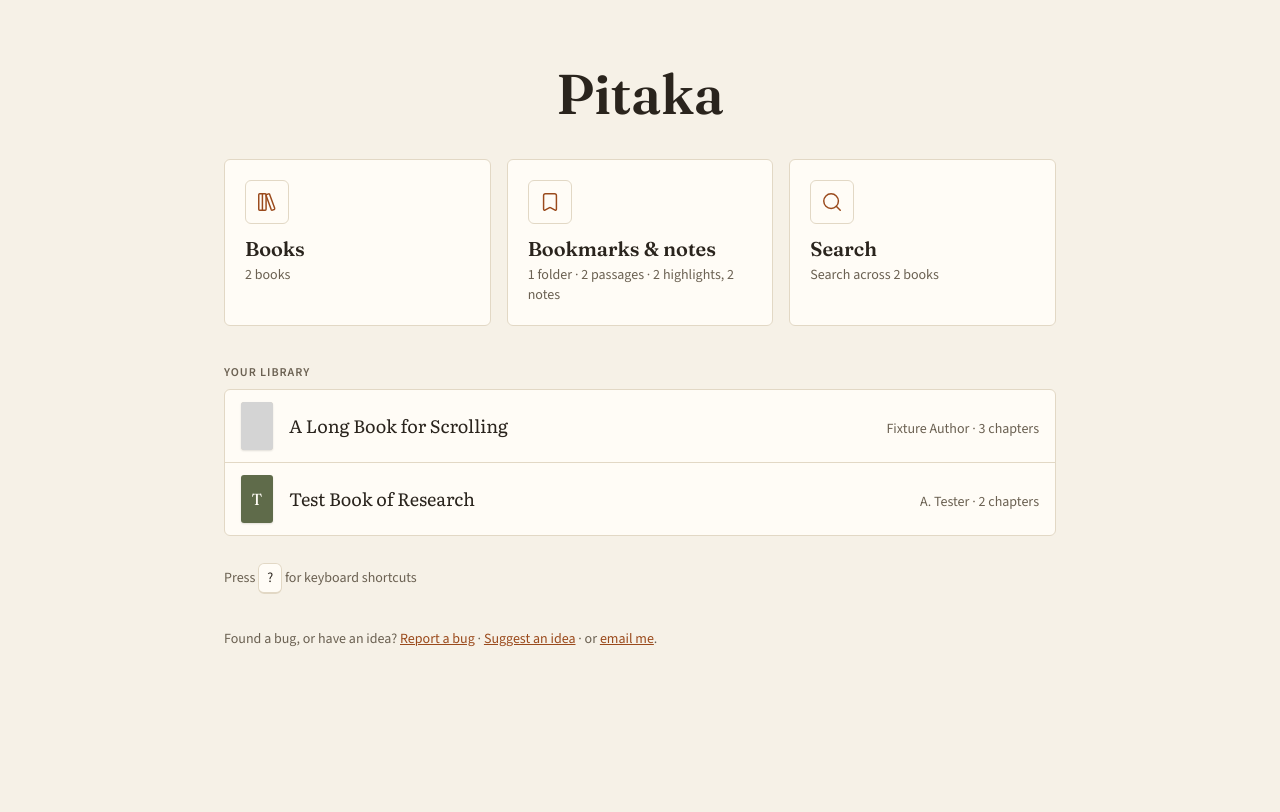
Test case: backing up › shows why a backup failed
Click the button "Books 2 books".
click(267, 202)  # box x1=224 y1=159 x2=491 y2=326
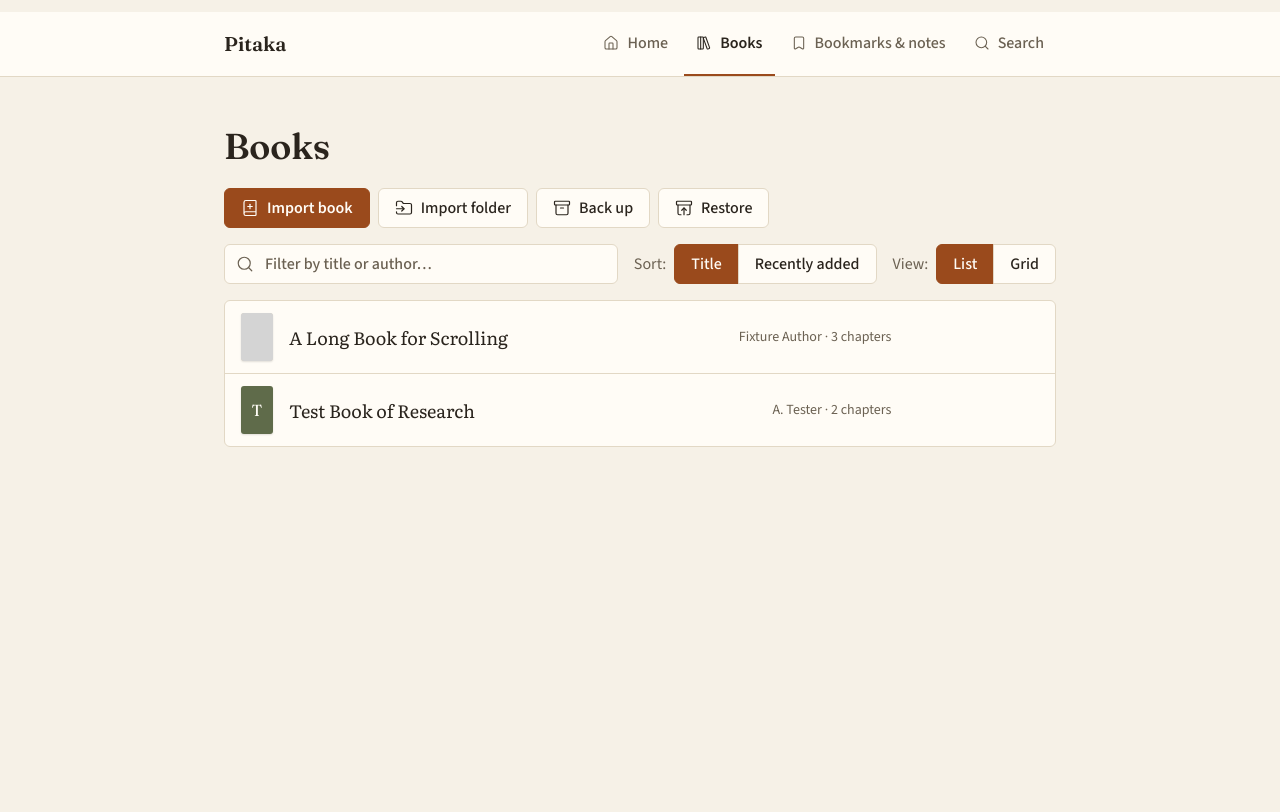
Now the heading "Books" is shown, box x1=224 y1=124 x2=330 y2=168
Click the button "Back up".
click(593, 208)  # box x1=536 y1=188 x2=650 y2=228
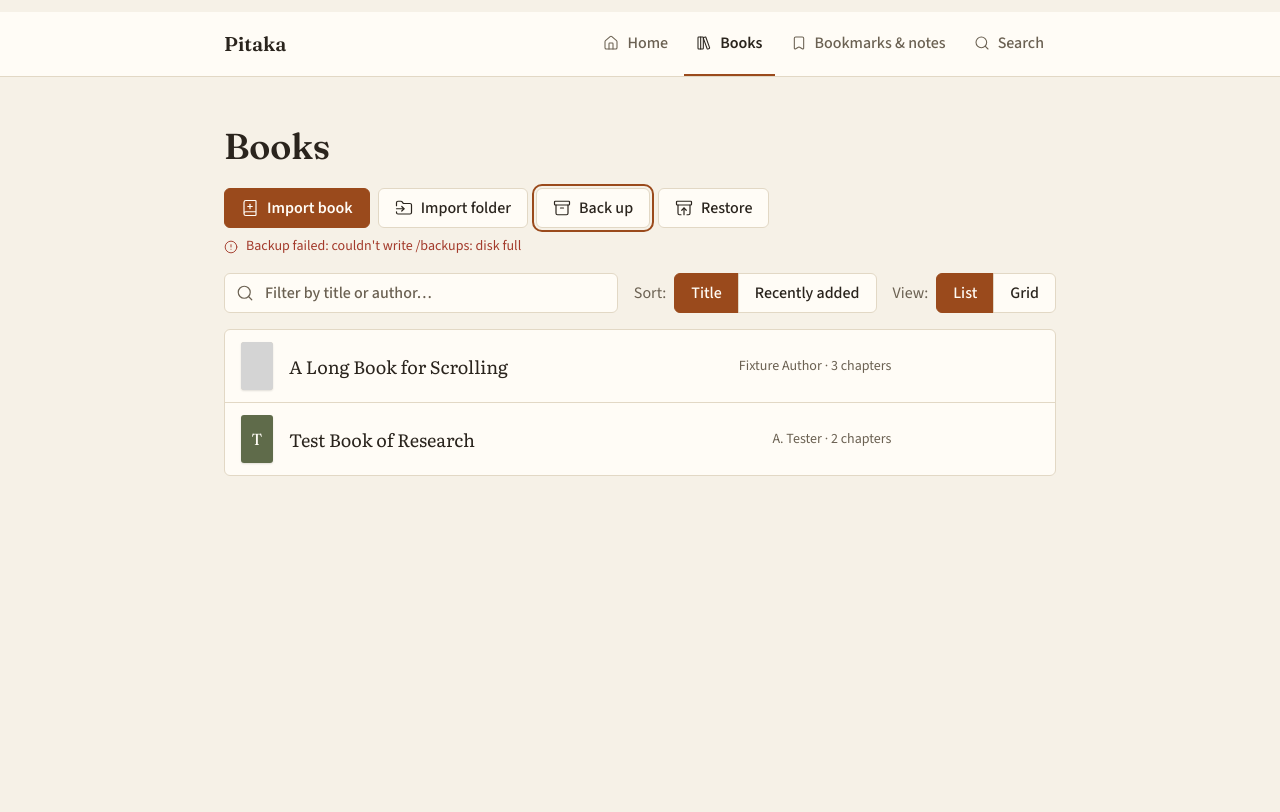
Now the text "Backup failed: couldn't write /backups: disk full" is shown, box x1=246 y1=236 x2=521 y2=257
